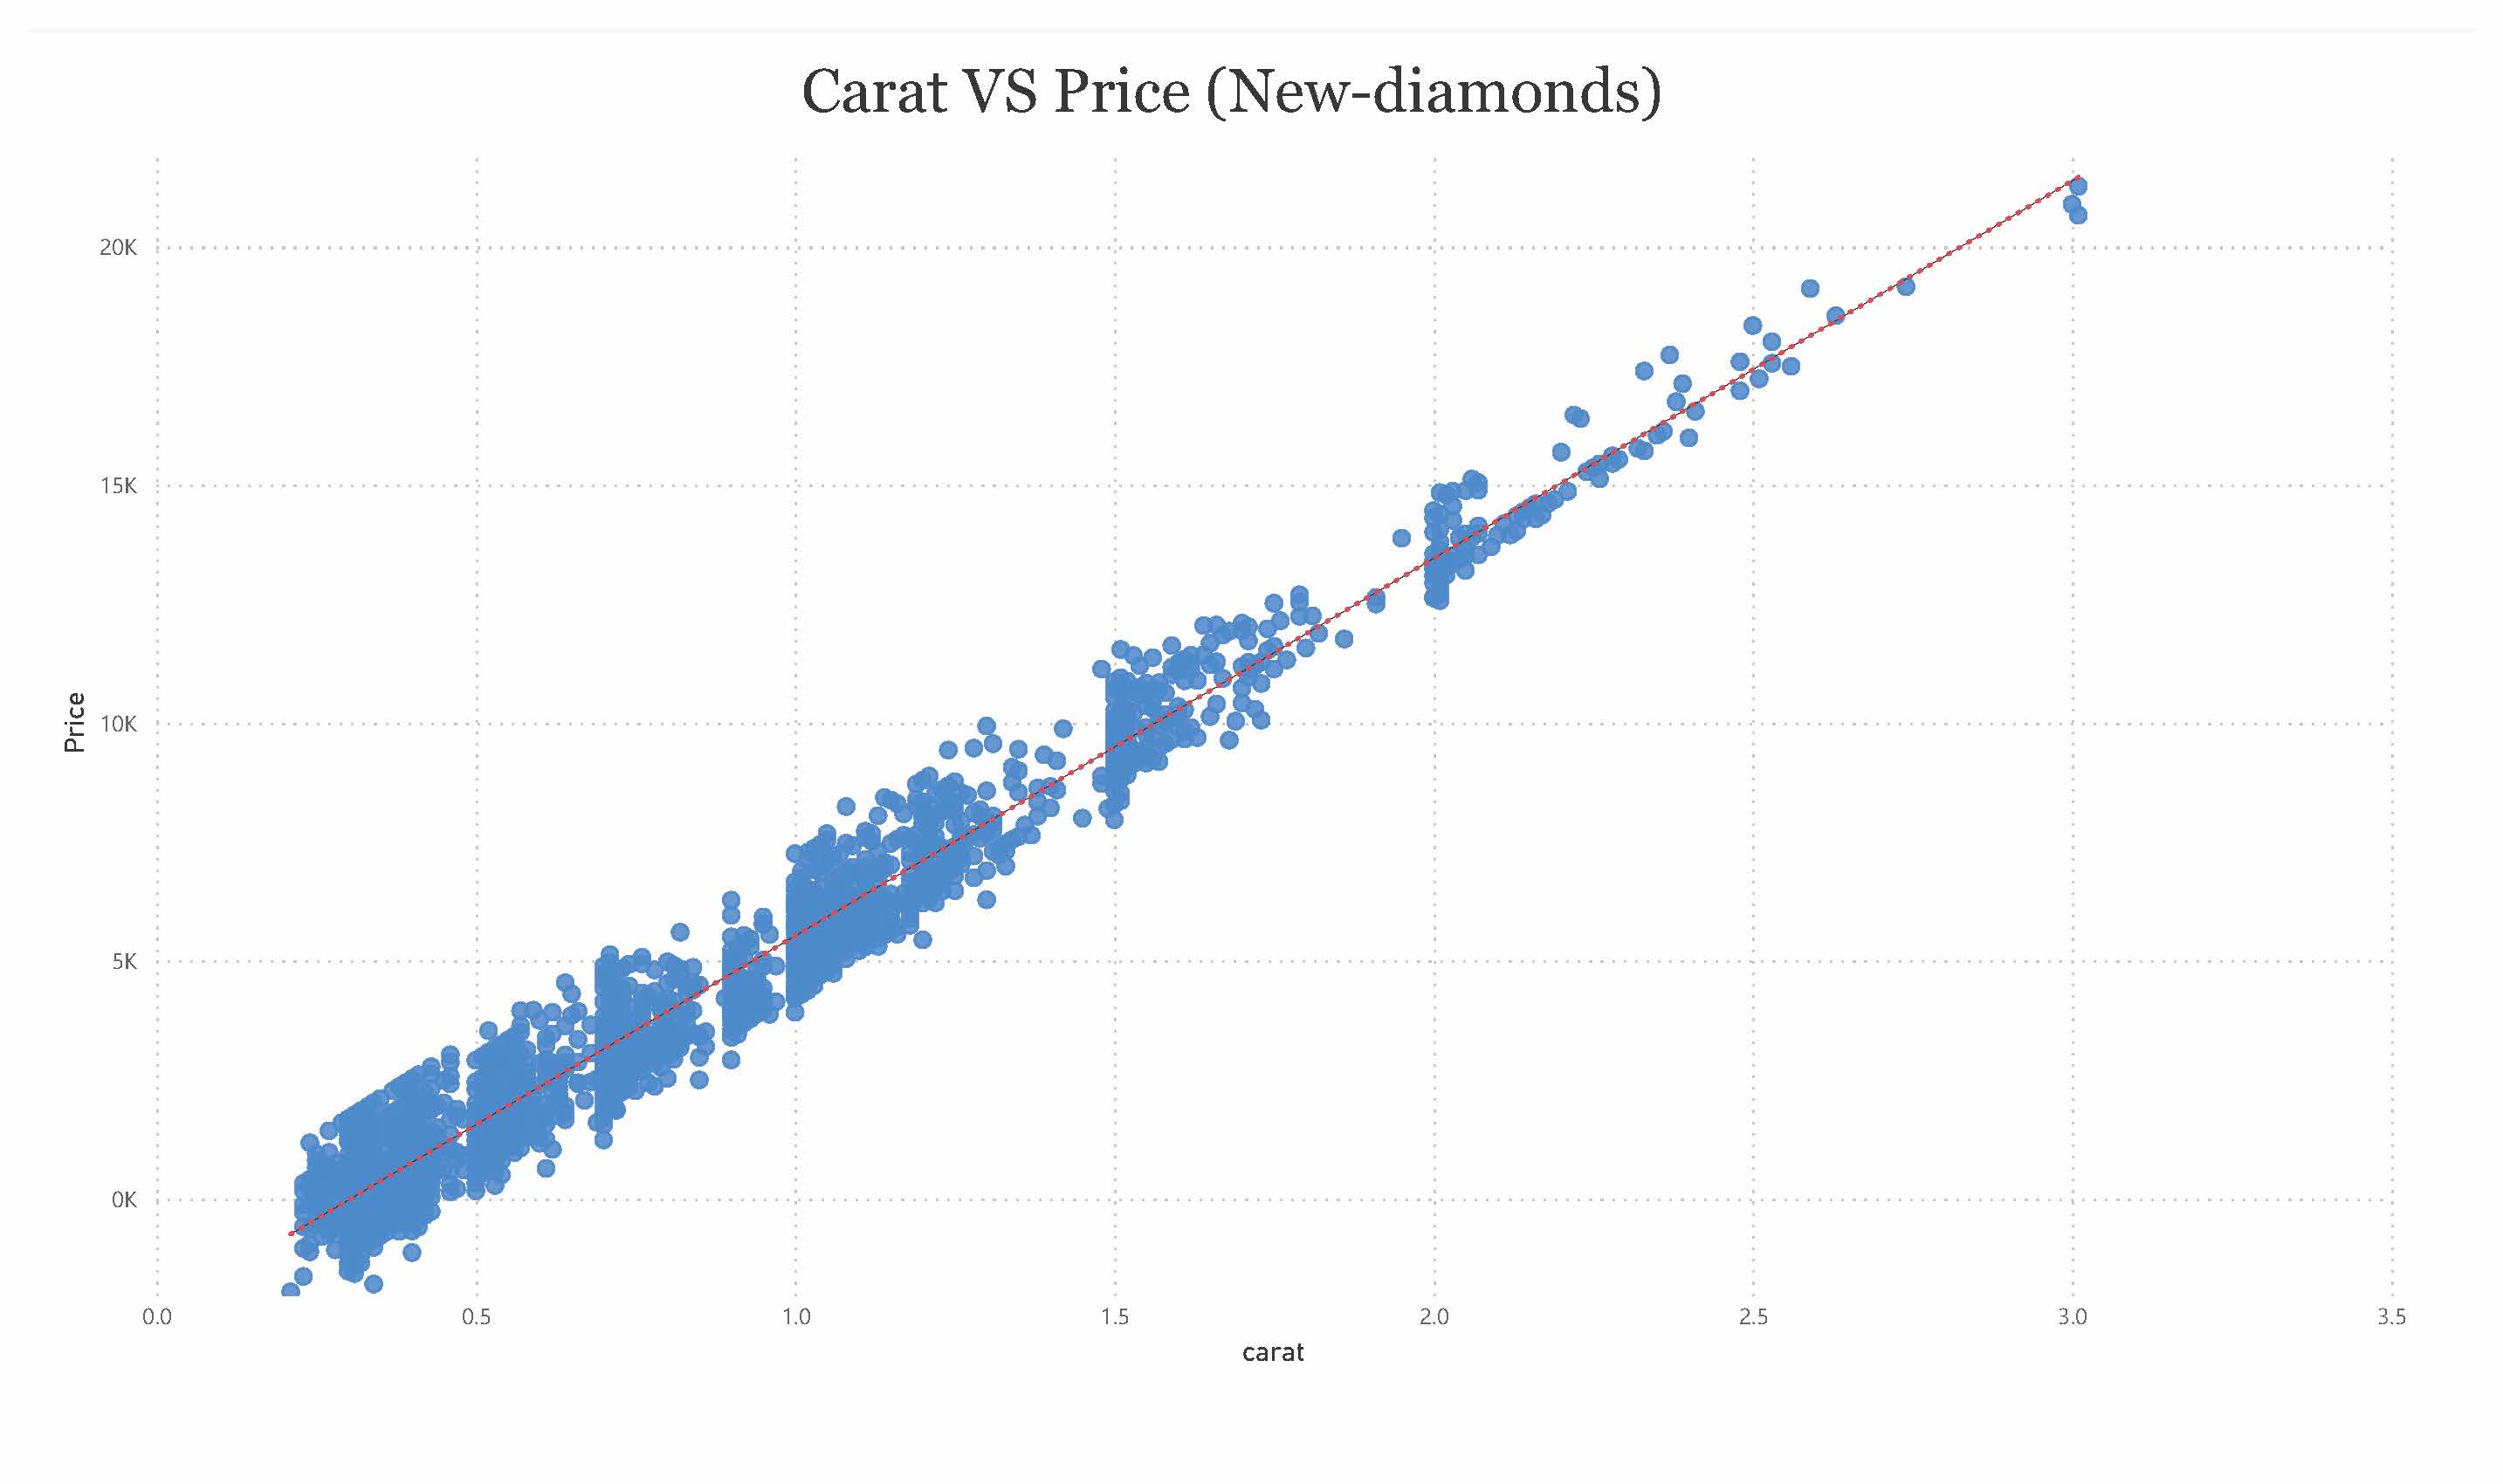

The page's visual inventory and layout, read from the dashboard file:
{"tool":"powerbi","page":{"name":"Page 1","canvas":[1280,720],"ordinal":0},"visuals":[{"type":"scatterChart","title":"Carat VS Price (New-diamonds)","fields":{"X":["new-diamonds.carat"],"Y":["new-diamonds.Price"]},"box":[10.7,0,1238.6,690.6],"z":0}]}

Visuals, with their boxes on the page's 1280x720 design canvas (x1, y1, x2, y2). These are canvas units, not pixel positions in the 2503x1484 screenshot, which may show the page scaled, cropped or inside an application window:
"Carat VS Price (New-diamonds)" scatterChart: {"x1": 11, "y1": 0, "x2": 1249, "y2": 691}
